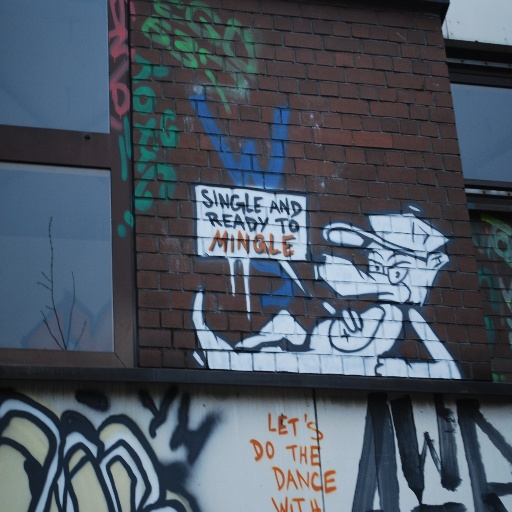hand: (375, 356, 409, 377), (336, 308, 363, 333)
